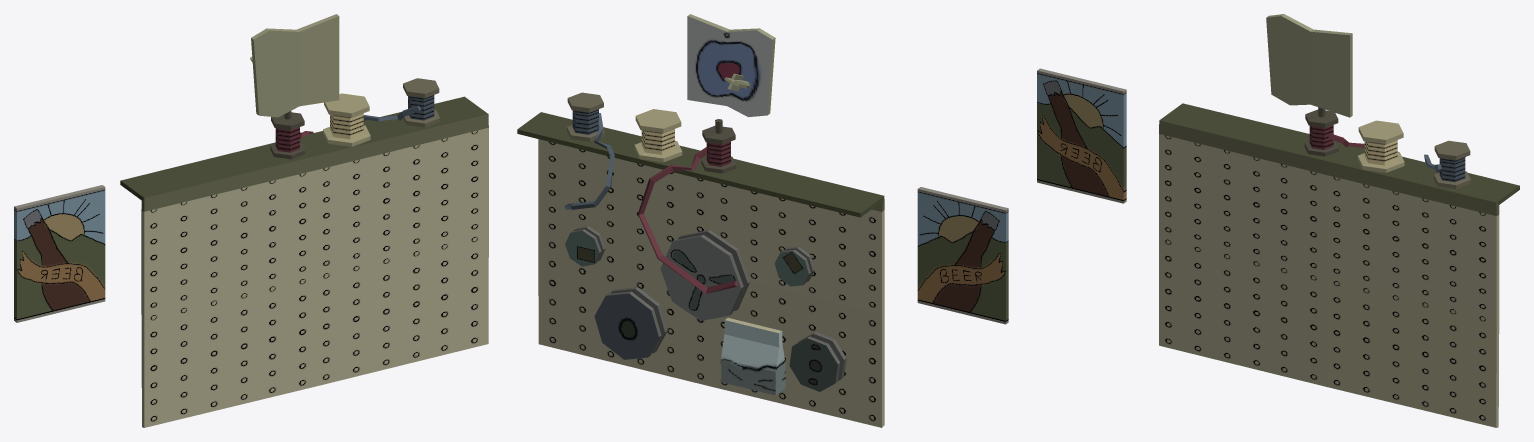
Rendered from board2.obj.
The picture shows the model from 3 angles, left to right: view 1: azimuth 30°, elevation 25°; view 2: azimuth 150°, elevation 25°; view 3: azimuth 330°, elevation 25°; orthographic projection. The views are drawn at different scales.
Visible parts, largest first — view 1: Interior.001_Interior.008; view 2: Interior.001_Interior.008; view 3: Interior.001_Interior.008.
Part boxes in pixels (<box>): Interior.001_Interior.008: <box>14,14,488,427</box>; Interior.001_Interior.008: <box>517,14,1008,427</box>; Interior.001_Interior.008: <box>1037,14,1519,427</box>.
Size of the model in its own units: 2.47 by 1.85 by 0.3827.
Materials: 1 (1 with a texture image).
